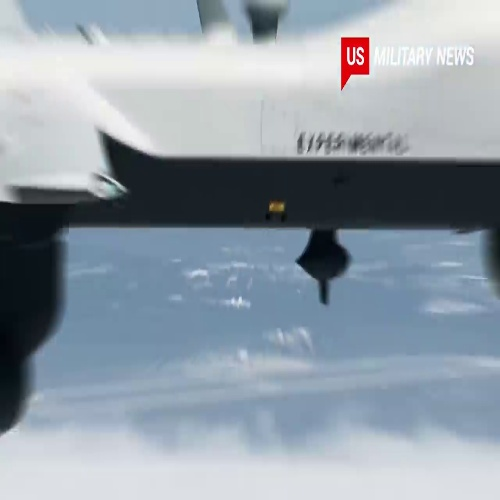uav434: (5, 25, 500, 429)
